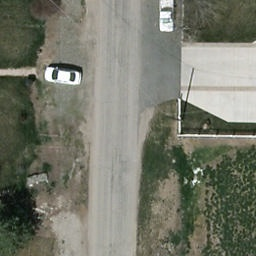car: (42, 66, 85, 89)
pickup: (160, 0, 177, 34)
